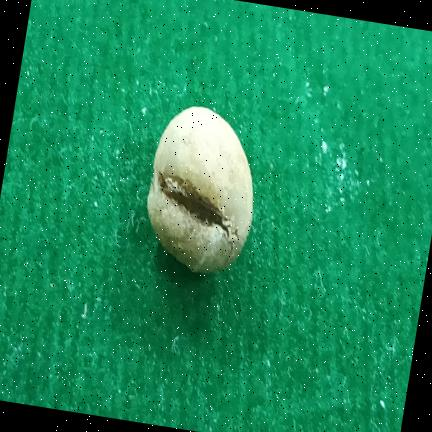good: (147, 107, 253, 273)
